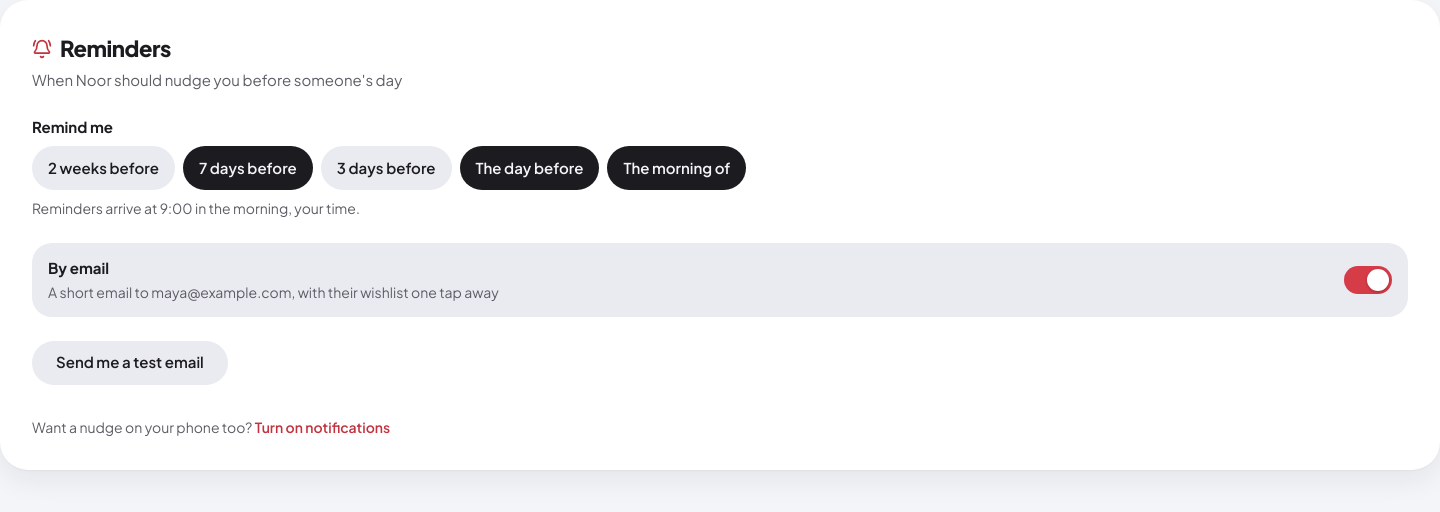
Test: Settings → Reminders › Send me a test email: the result is announced
The width and height of the screenshot is (1440, 512).
Step 1. Click the button "Send me a test email" → (130, 362), box [32, 340, 228, 384]
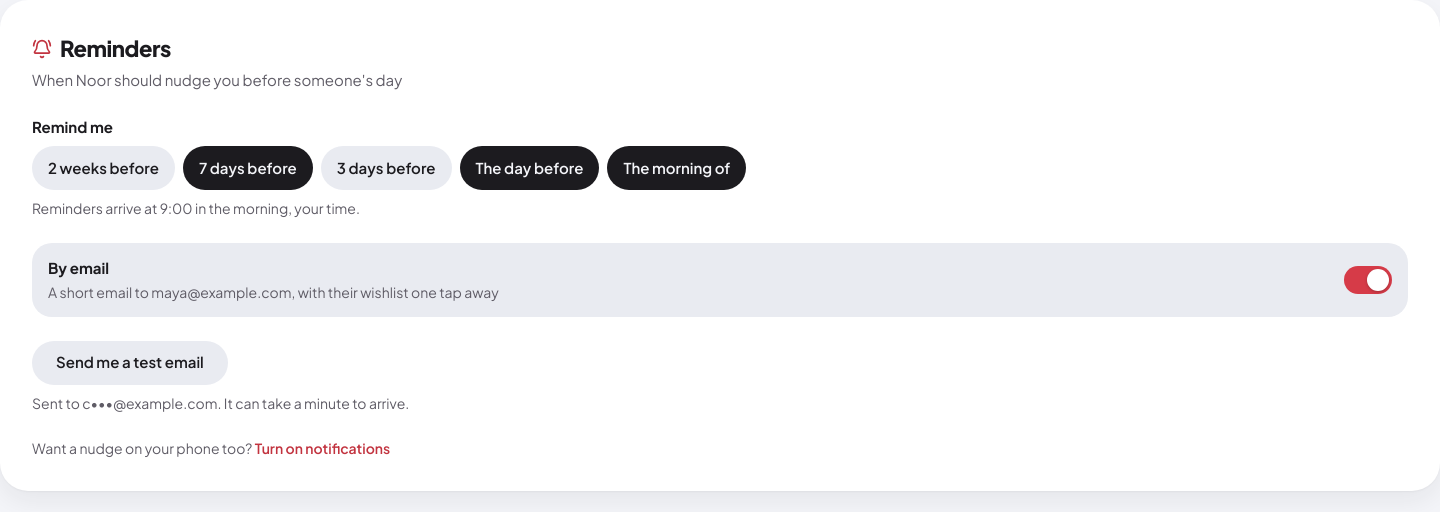
Check: the text "Sent to c•••@example.com. It can take a minute to arrive." is shown, box [32, 392, 409, 414]
